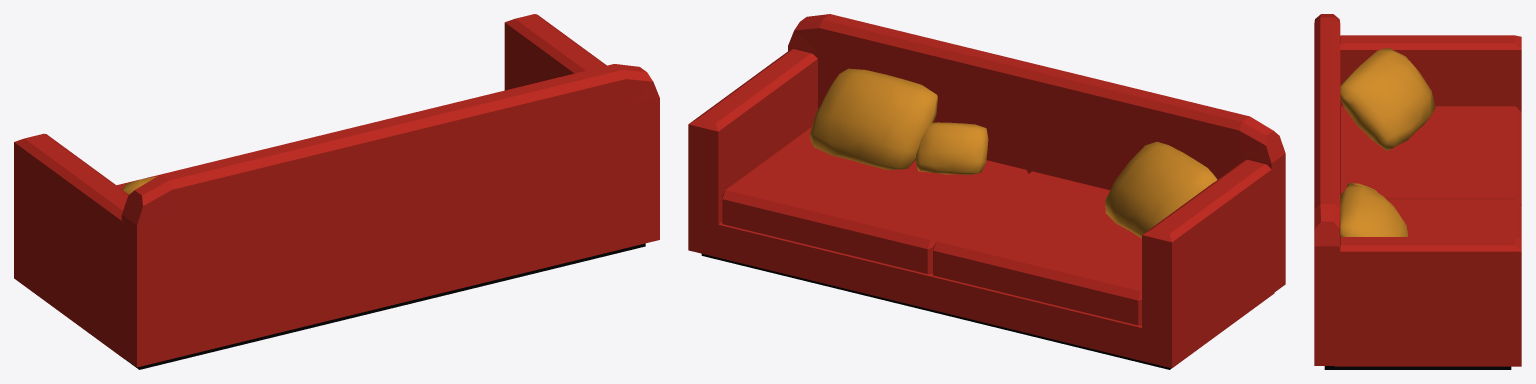
File: Canapé_gamejam.fbx
The picture shows the model from 3 angles, left to right: view 1: azimuth 30°, elevation 25°; view 2: azimuth 150°, elevation 25°; view 3: azimuth 270°, elevation 25°; orthographic projection. The views are drawn at different scales.
Visible parts, largest first — view 1: Coussin; view 2: Coussin; view 3: Coussin.
Part boxes in pixels (<box>): Coussin: <box>14,14,659,369</box>; Coussin: <box>688,14,1285,369</box>; Coussin: <box>1314,14,1521,369</box>.
Bounding box in the file's own units: 230 × 77.55 × 93.56.
